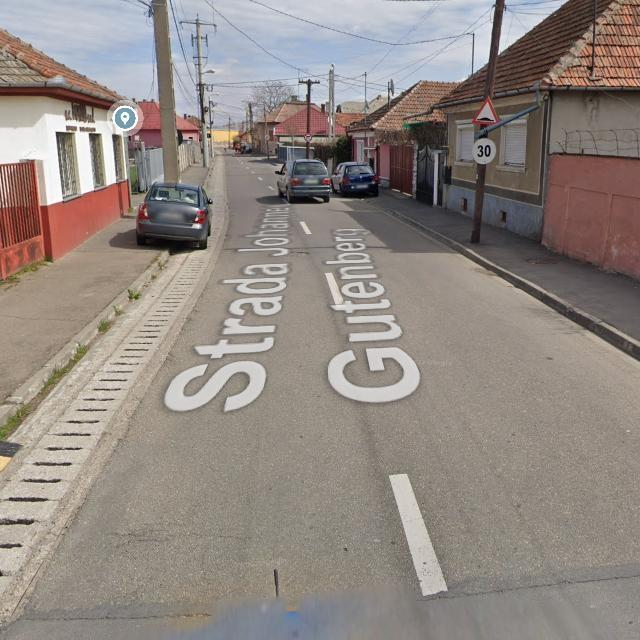forb_speed_over_30: (473, 136, 497, 164)
